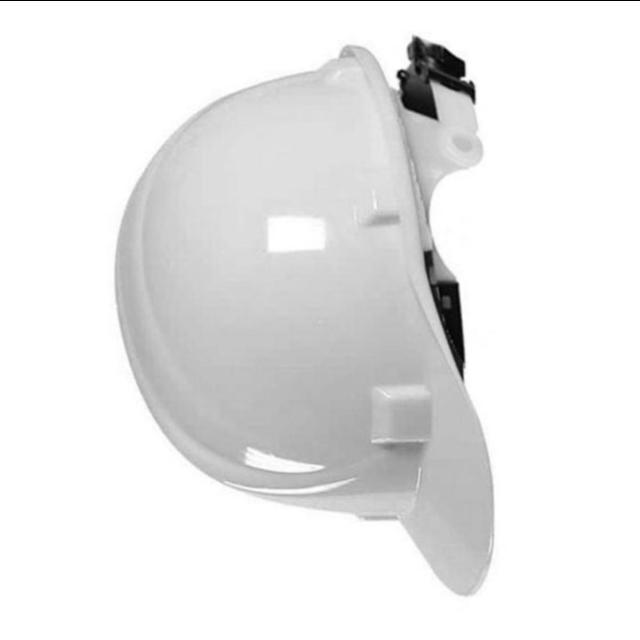safety_helmet: (114, 34, 499, 597)
